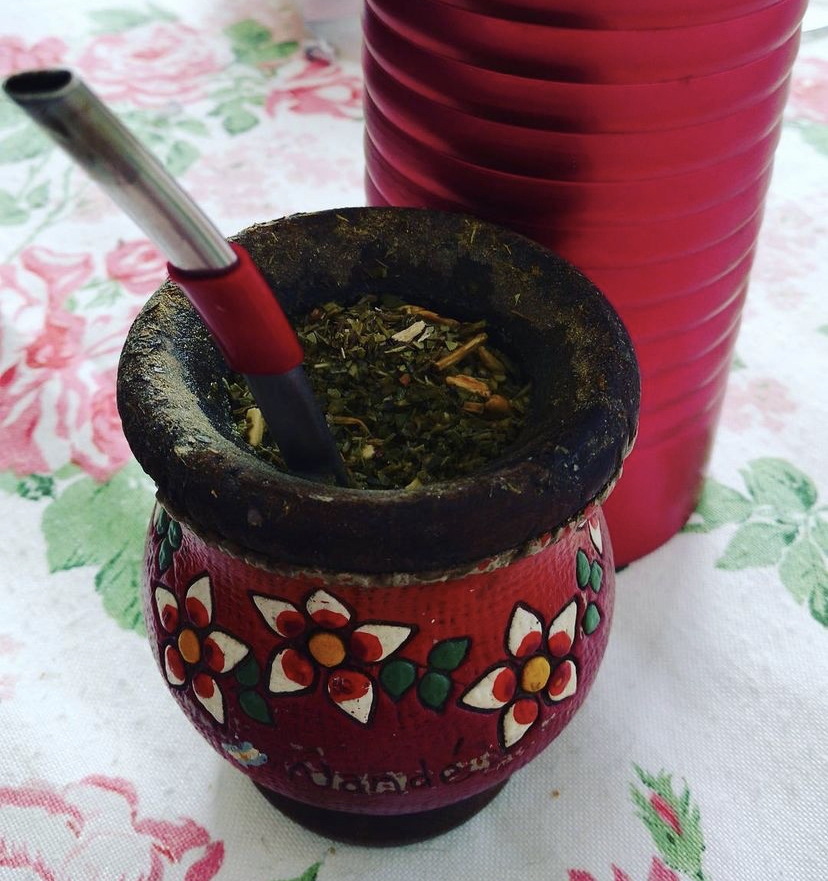madera: (97, 204, 640, 852)
mate: (6, 62, 645, 851)
